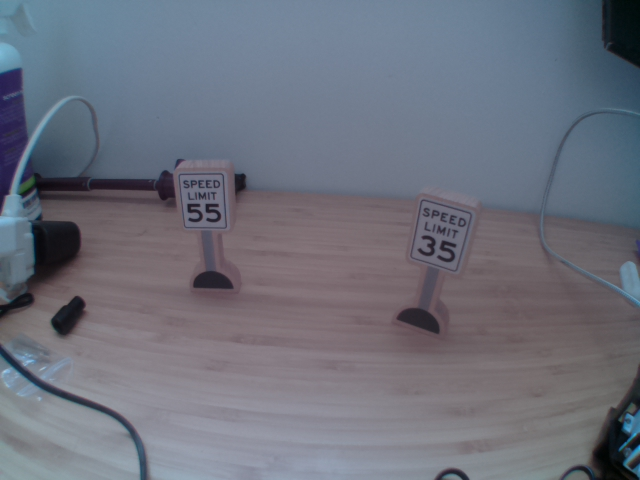Speed Limit 35: (412, 196, 466, 272)
Speed Limit 55: (176, 171, 226, 230)
